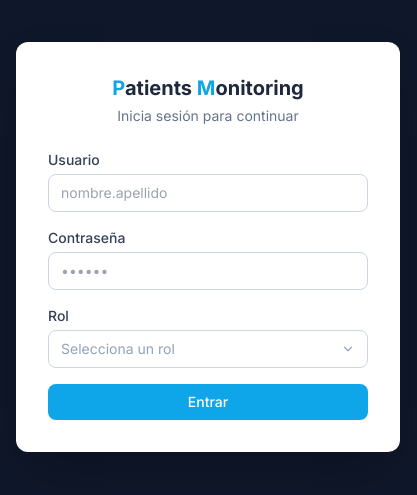
Test: Login › shows validation error when fields are empty
The image size is (417, 495).
Click the button "Entrar".
click(208, 402)  # box [48, 384, 368, 420]
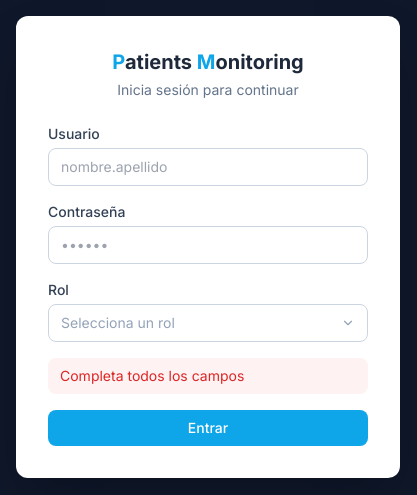
Now the text "Completa todos los campos" is shown, box [48, 358, 368, 394]
